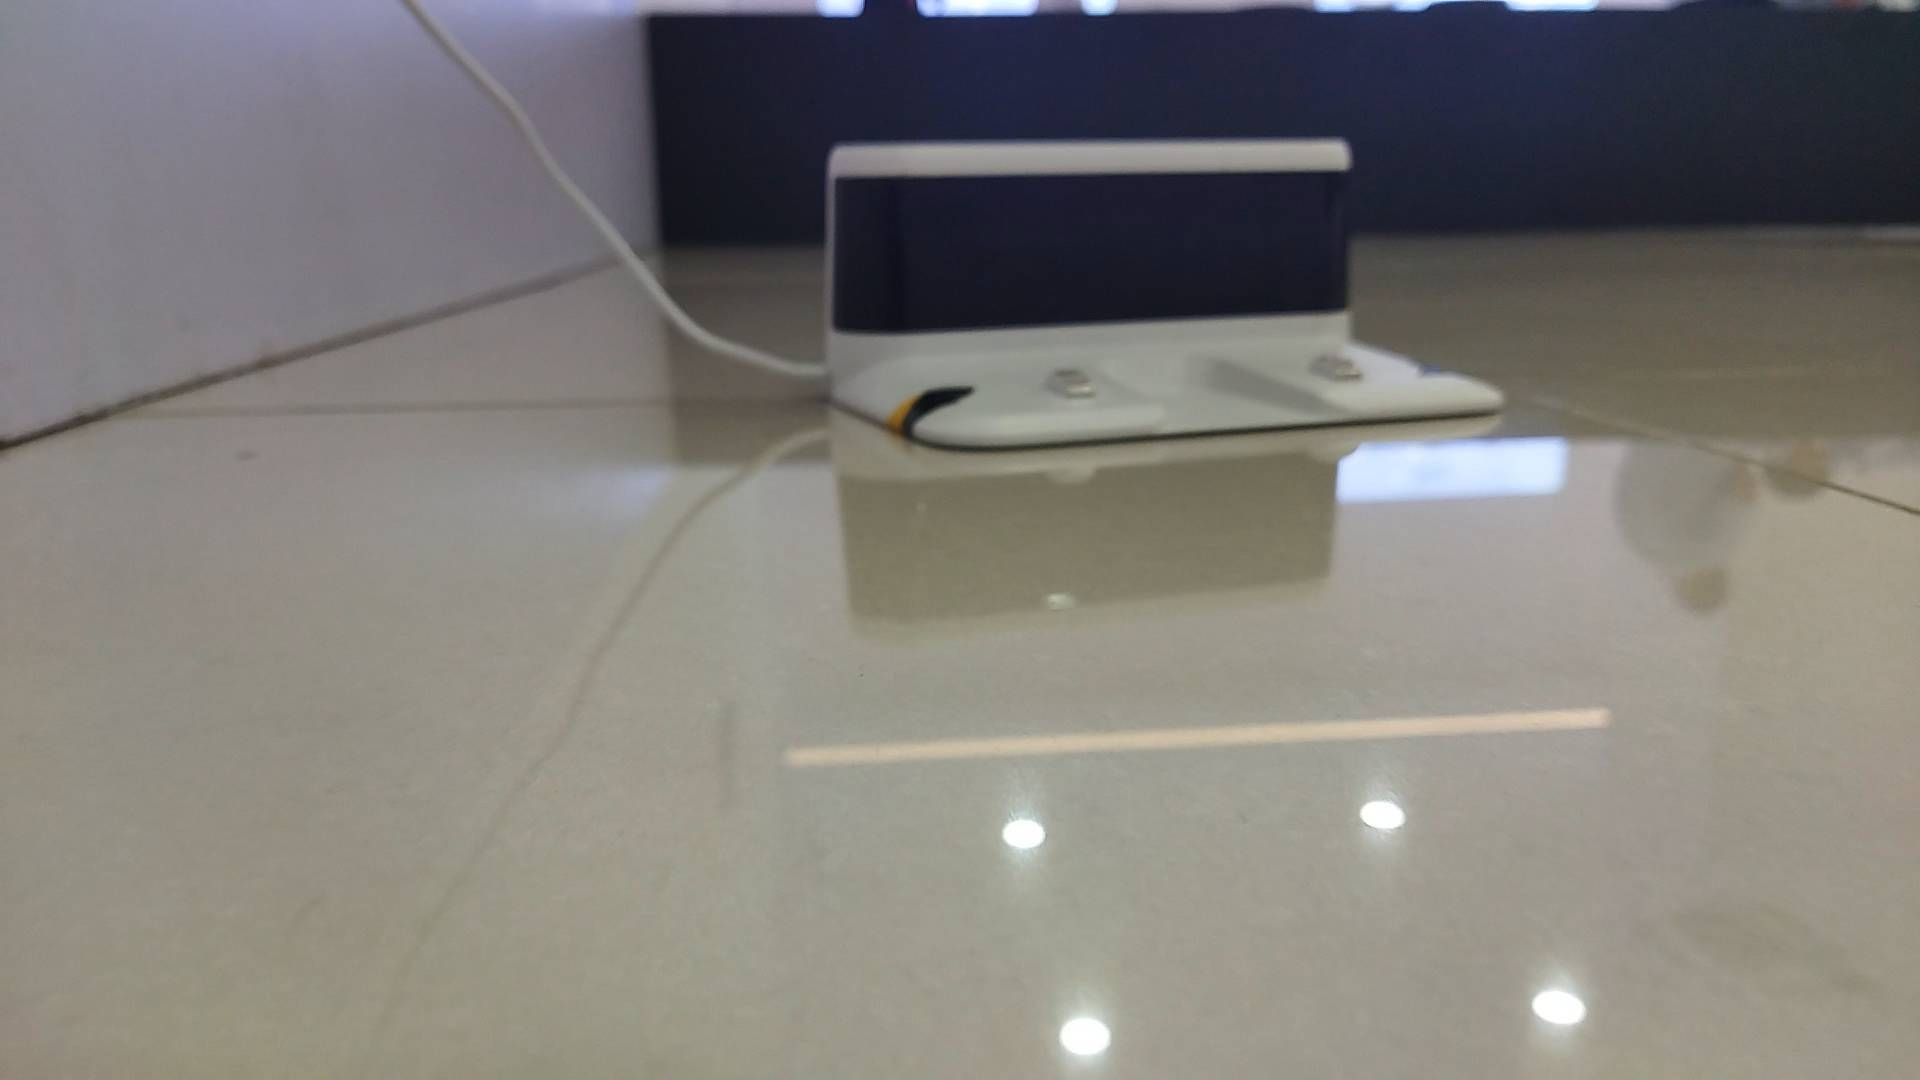recharge seat: (825, 133, 1505, 448)
